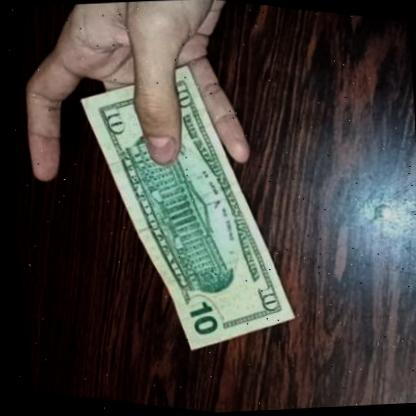ten-back: (31, 36, 333, 374)
